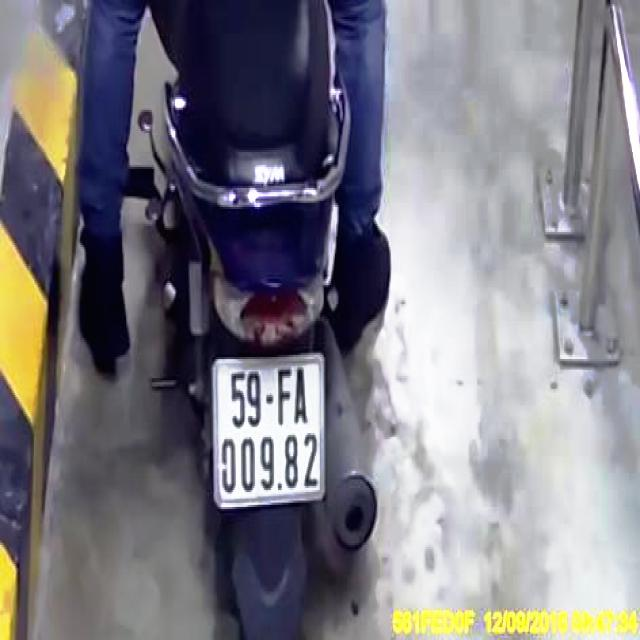license_plate: (215, 359, 327, 504)
